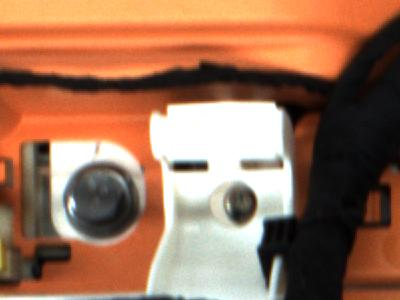nut_b: (54, 166, 145, 241)
